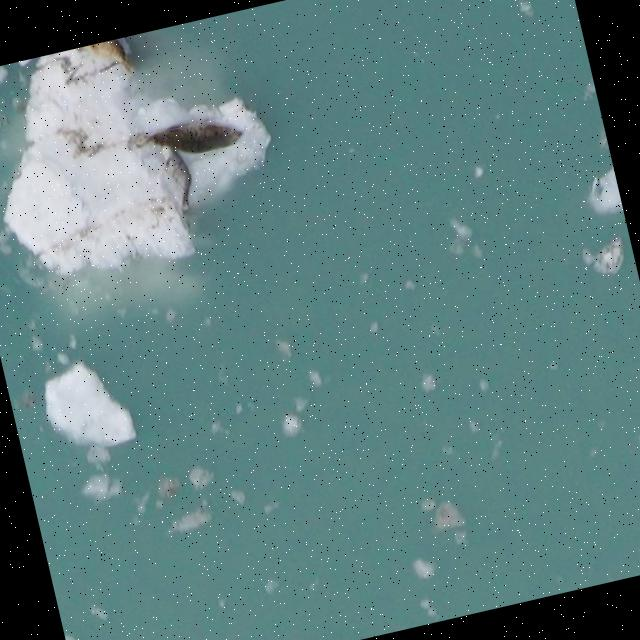seal: (134, 116, 247, 164), (157, 139, 199, 212), (82, 25, 142, 74)
